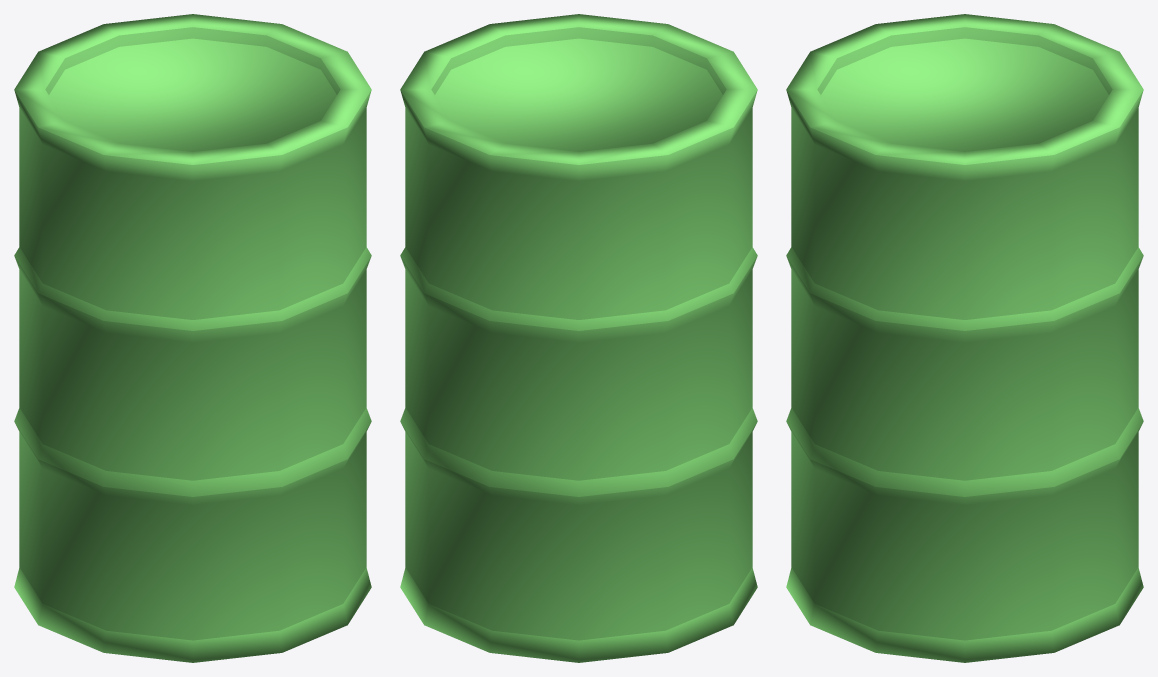
File: GreenBarrel.fbx
3 renders of one model, left to right at view 1: azimuth 30°, elevation 25°; view 2: azimuth 150°, elevation 25°; view 3: azimuth 270°, elevation 25°, orthographic.
Parts seen in each view (by area): view 1: GreenBarrel; view 2: GreenBarrel; view 3: GreenBarrel.
Part boxes in pixels (box(x1,y1,x2,y2)): GreenBarrel: box(14, 14, 371, 662); GreenBarrel: box(400, 14, 757, 662); GreenBarrel: box(786, 14, 1143, 662).
Size of the model in its own units: 1.19 by 1.19 by 1.84.
